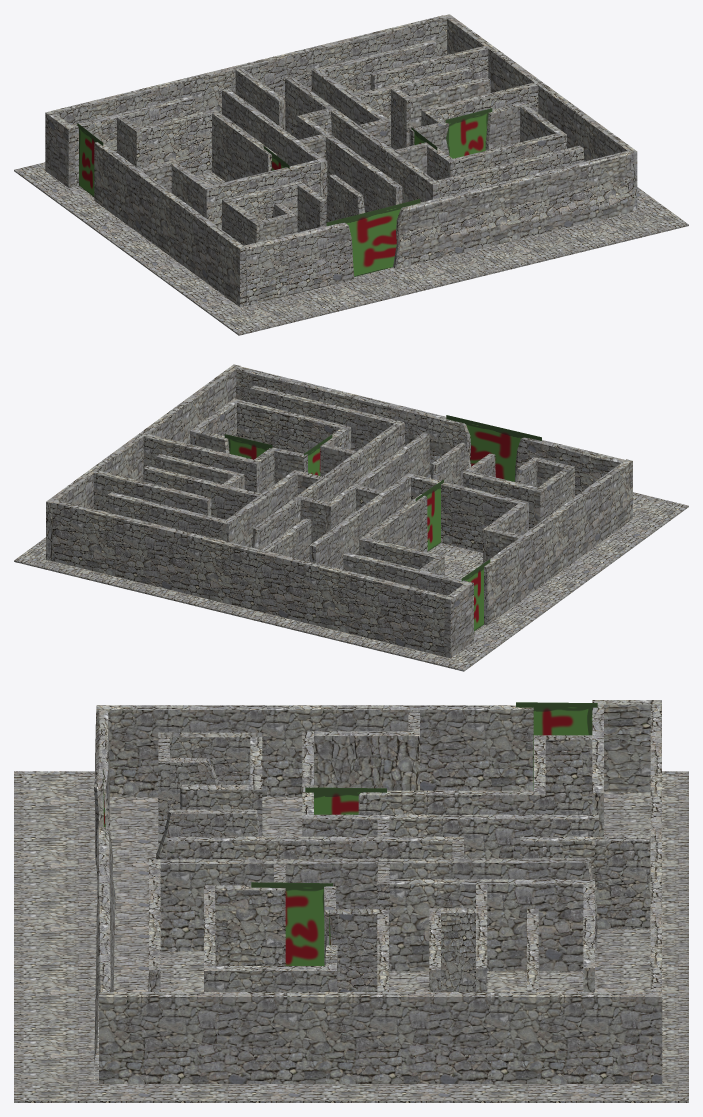
Rendered from Labirint4gltf.gltf.
3 renders of one model, top to bottom at view 1: azimuth 30°, elevation 25°; view 2: azimuth 150°, elevation 25°; view 3: azimuth 270°, elevation 25°, orthographic. The views are drawn at different scales.
Visible parts, largest first — view 1: tla, wall.035, wall.040, wall.030, wall.01, wall.02, wall.010, wall.026, wall.08, Trigger.001, wall.06, wall.032 (+29 smaller); view 2: wall.030, tla, wall.040, wall.02, wall.035, wall.010, wall.05, wall.016, wall.06, wall.019, wall.08, wall.037 (+29 smaller); view 3: tla, wall.02, wall.040, wall.010, wall.012, wall.06, wall.031, wall.08, wall.04, wall.015, wall.032, wall.028 (+27 smaller).
Part boxes in pixels (x1=…): tla: x1=14, y1=147, x2=688, y2=335; wall.035: x1=393, y1=151, x2=632, y2=268; wall.040: x1=94, y1=142, x2=246, y2=307; wall.030: x1=52, y1=15, x2=446, y2=124; wall.01: x1=244, y1=222, x2=354, y2=305; wall.02: x1=444, y1=14, x2=637, y2=210; wall.010: x1=285, y1=76, x2=435, y2=203; wall.026: x1=139, y1=110, x2=211, y2=175; wall.08: x1=297, y1=114, x2=402, y2=212; Trigger.001: x1=326, y1=199, x2=420, y2=276; wall.06: x1=222, y1=89, x2=327, y2=199; wall.032: x1=208, y1=109, x2=276, y2=181; wall.030: x1=52, y1=500, x2=447, y2=656; tla: x1=14, y1=474, x2=688, y2=671; wall.040: x1=484, y1=459, x2=632, y2=625; wall.02: x1=46, y1=364, x2=239, y2=561; wall.035: x1=236, y1=366, x2=471, y2=474; wall.010: x1=251, y1=423, x2=400, y2=549; wall.05: x1=411, y1=474, x2=528, y2=552; wall.016: x1=237, y1=400, x2=350, y2=453; wall.06: x1=309, y1=473, x2=414, y2=569; wall.019: x1=250, y1=385, x2=404, y2=451; wall.08: x1=324, y1=433, x2=429, y2=533; wall.037: x1=93, y1=470, x2=211, y2=515; tla: x1=14, y1=771, x2=688, y2=1102; wall.02: x1=99, y1=992, x2=662, y2=1083; wall.040: x1=96, y1=705, x2=533, y2=796; wall.010: x1=160, y1=858, x2=597, y2=951; wall.012: x1=389, y1=879, x2=594, y2=971; wall.06: x1=302, y1=814, x2=598, y2=858; wall.031: x1=520, y1=836, x2=650, y2=928; wall.08: x1=167, y1=836, x2=463, y2=859; wall.04: x1=314, y1=731, x2=419, y2=790; wall.015: x1=215, y1=885, x2=285, y2=965; wall.032: x1=358, y1=790, x2=545, y2=814; wall.028: x1=592, y1=700, x2=661, y2=792.
Bounding box in the file's own units: 407 × 56.22 × 353.
Materials: 8 (8 with a texture image).
